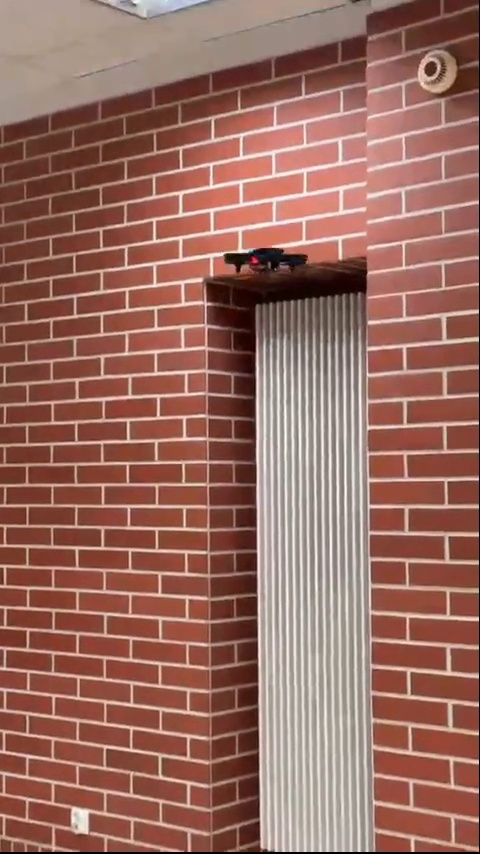drone: (225, 245, 314, 281)
